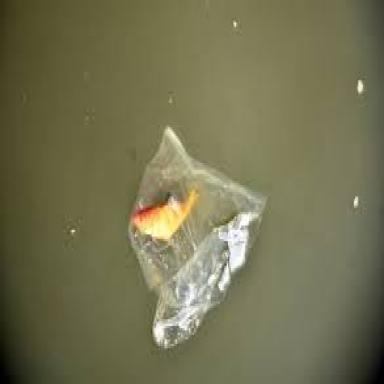plasticbag: (120, 101, 268, 358)
